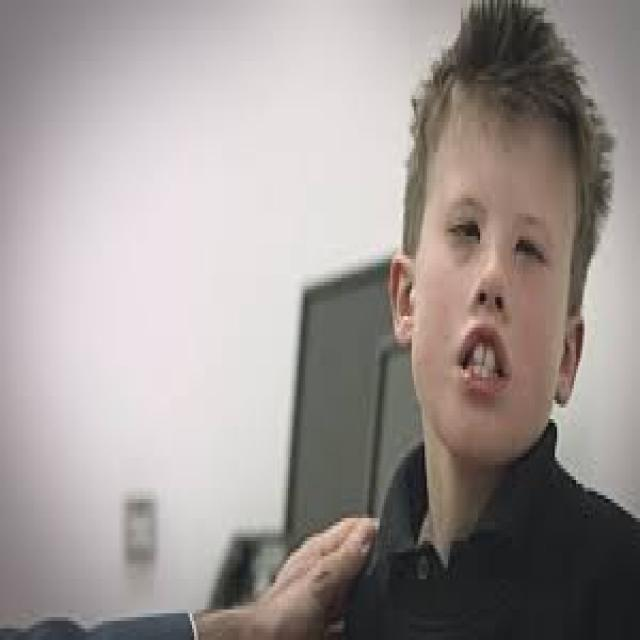stroke_face: (373, 39, 607, 506)
